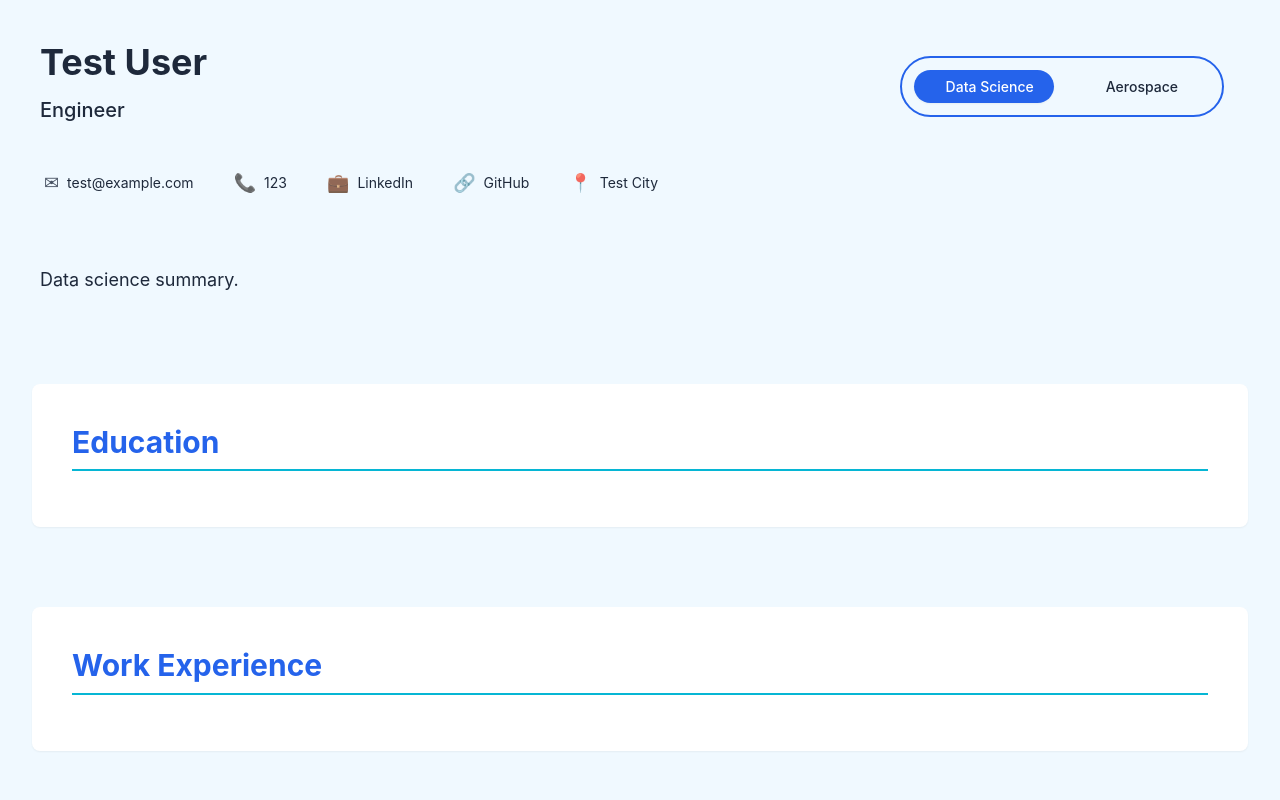
it: Mode switching integration › Toggle switches from datascience to aerospace mode
// Click the toggle button
What coordinates should you click on to do the following:
click the button with aria-label "switch to aerospace"
I would click on:
 (990, 86)
Its box is [900,56,1224,117].
(page scrolled)
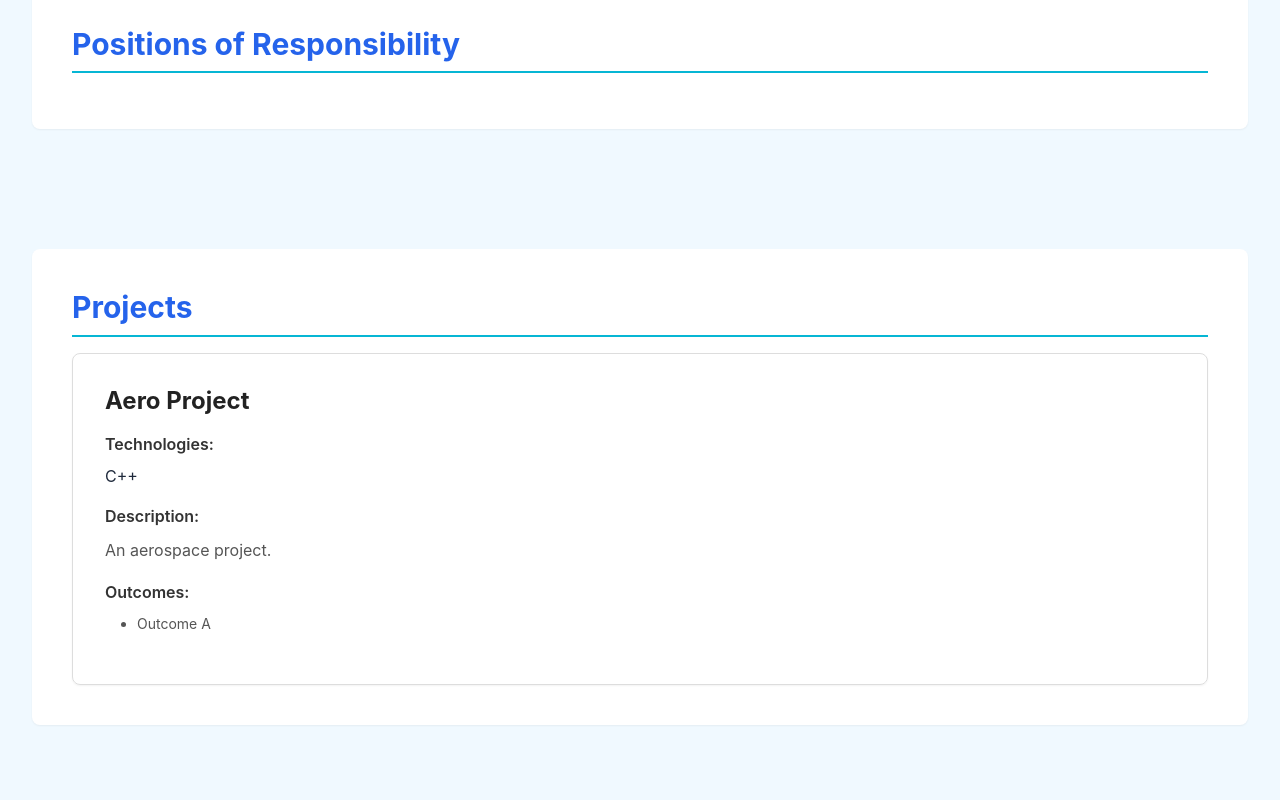
Check: the heading "Aero Project" is shown, box [105,386,249,414]
